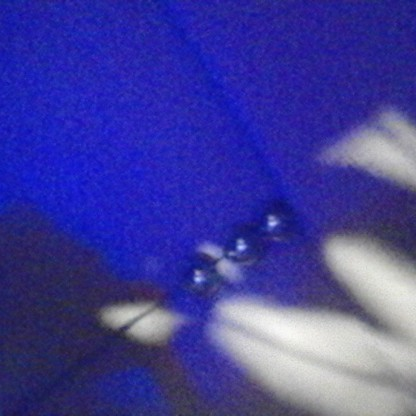ironball: (217, 224, 269, 265), (257, 201, 301, 245), (177, 256, 221, 300)
